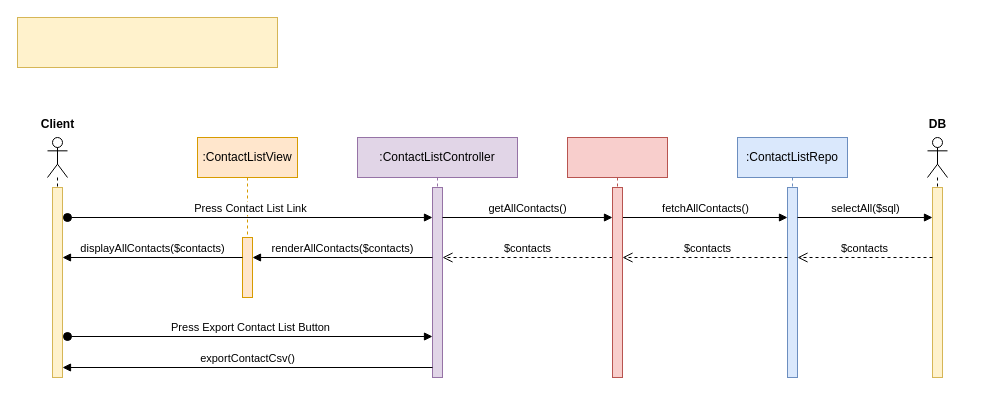
Image size: 995x395. Some labels were removed from this diagram. The centre of each missing label's shape, as x and y in pixels:
":ContactList" goes at [617,217].
"Export Contact List" goes at [147,42].
